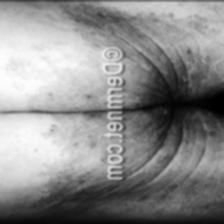Toxin: (50, 27, 92, 65), (35, 120, 89, 146)
